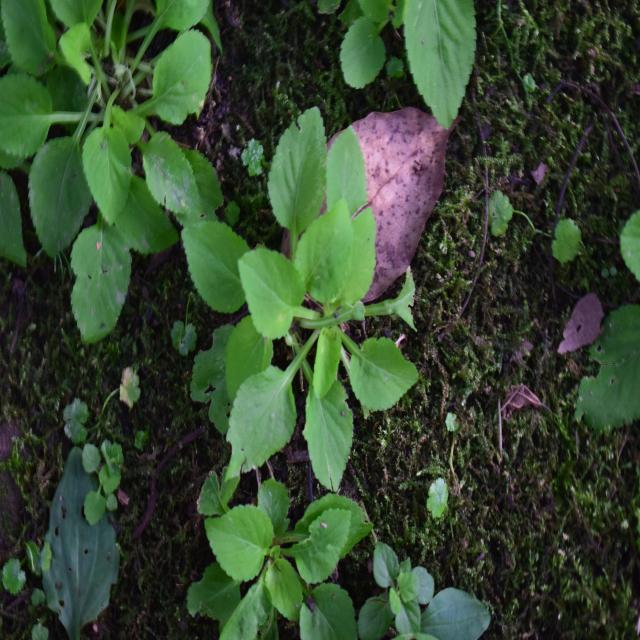Viola: (197, 113, 430, 471)
